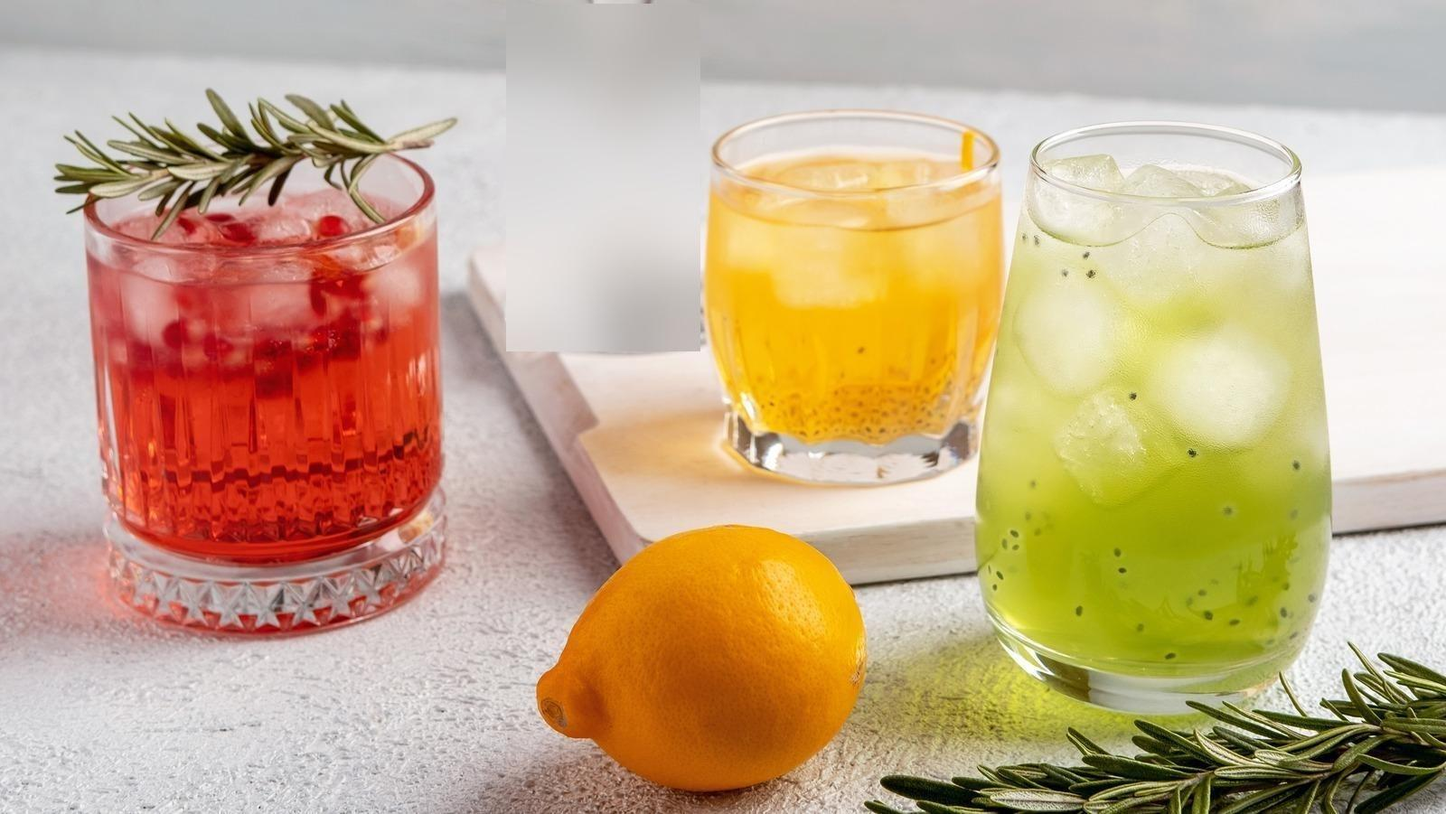glass-normal: (972, 121, 1338, 705), (78, 142, 450, 639), (702, 107, 1009, 486)
